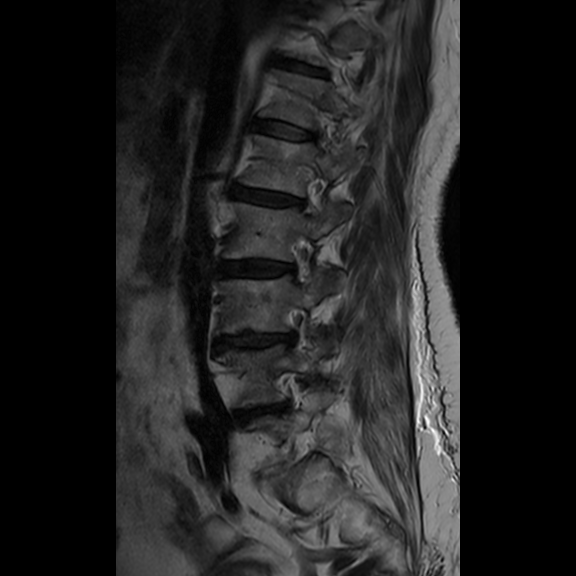RFS0: (276, 227, 324, 294), (289, 163, 337, 230)
